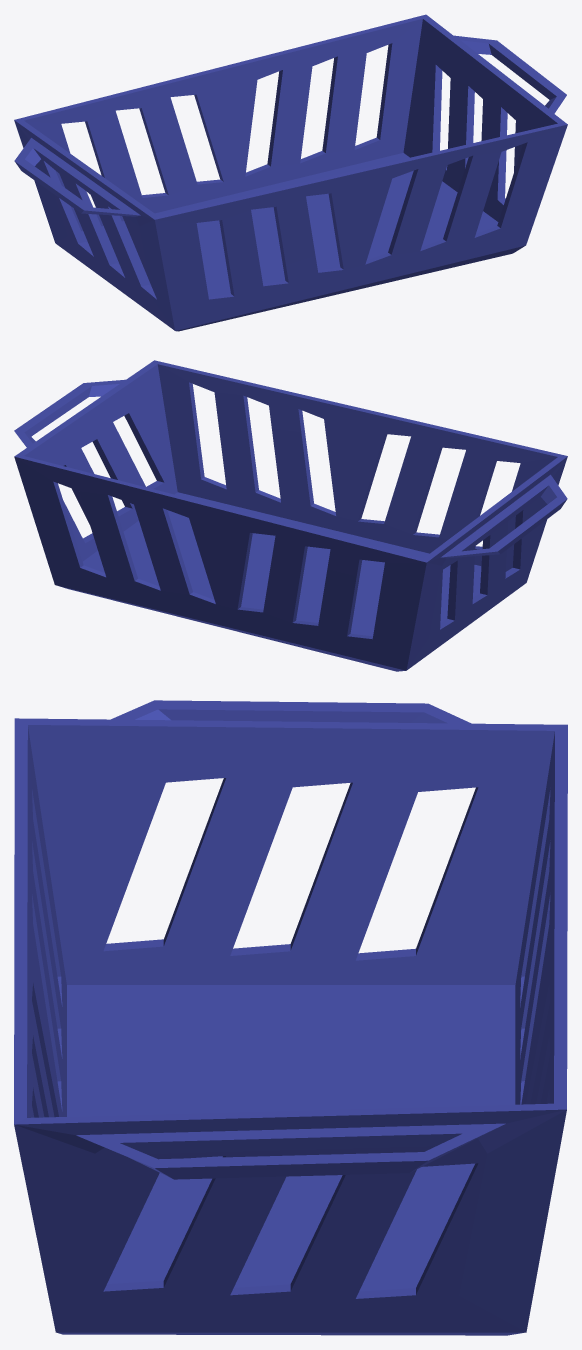
The model's file is Basket.fbx.
3 renders of one model, top to bottom at view 1: azimuth 30°, elevation 25°; view 2: azimuth 150°, elevation 25°; view 3: azimuth 270°, elevation 25°, orthographic. The views are drawn at different scales.
Visible parts, largest first — view 1: Basket; view 2: Basket; view 3: Basket.
Boxes of the visible parts, <box> form: Basket: <box>14,14,567,331</box>; Basket: <box>14,360,567,671</box>; Basket: <box>14,700,567,1335</box>.
Bounding box in the file's own units: 35.03 × 9.35 × 17.71.
